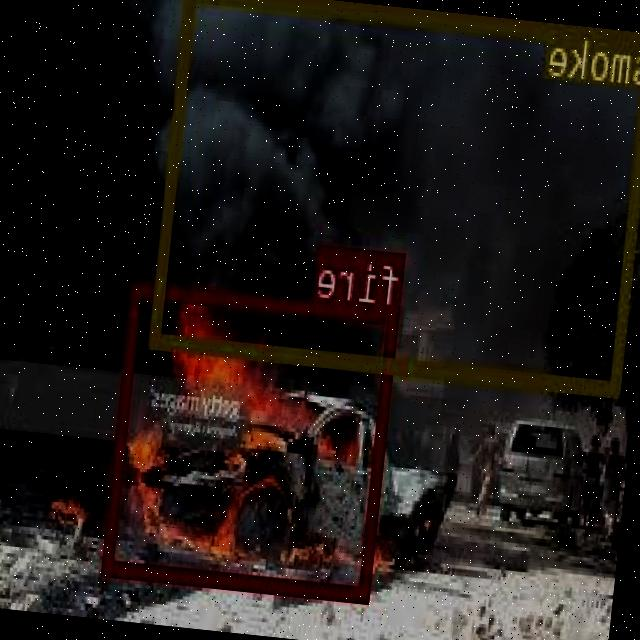fire: (104, 280, 400, 601)
smoke: (151, 0, 640, 395)
